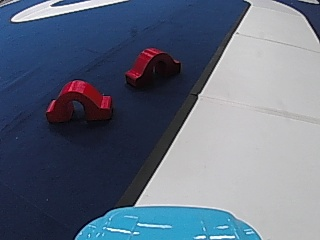bridge: (42, 76, 115, 124), (123, 44, 182, 88)
